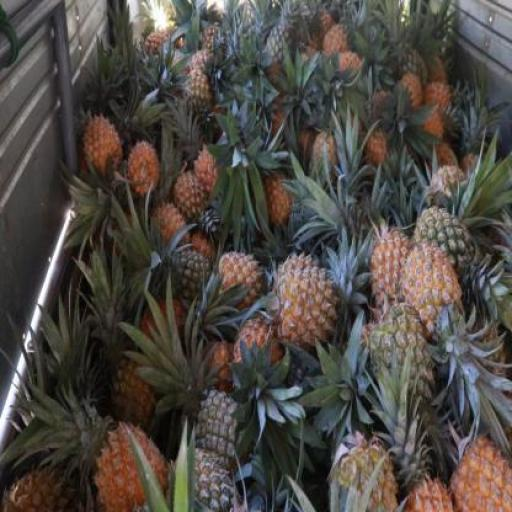------------------------------: (413, 207, 479, 321), (368, 307, 437, 407), (111, 360, 162, 435), (183, 66, 216, 124)
Pineapple - v8 v1: (96, 424, 170, 511), (400, 244, 462, 346), (275, 256, 338, 350), (368, 230, 418, 319), (234, 320, 282, 399), (220, 254, 264, 310), (86, 116, 126, 177), (129, 139, 159, 198), (176, 170, 214, 216)
